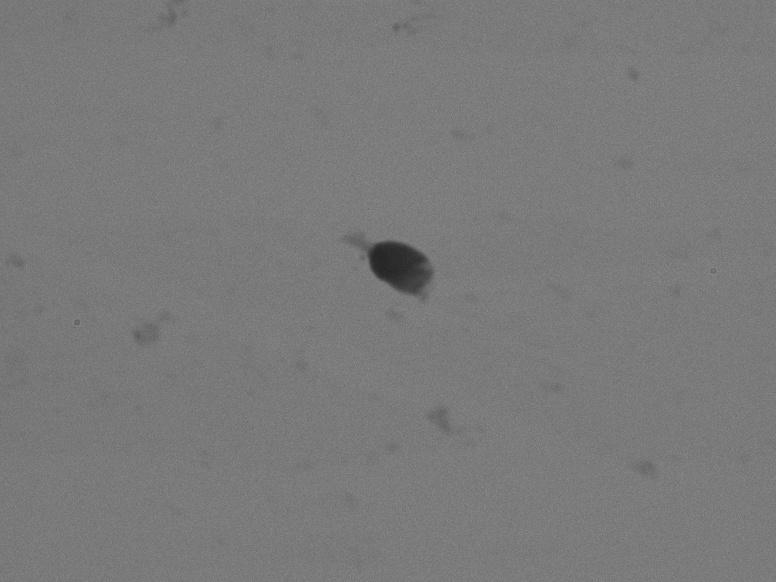Abnormal: (156, 152, 493, 352)
